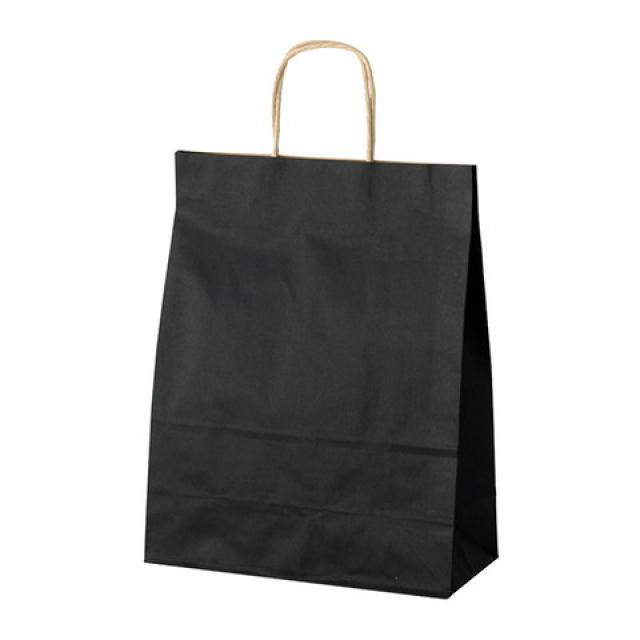paper bag: (134, 33, 507, 603)
